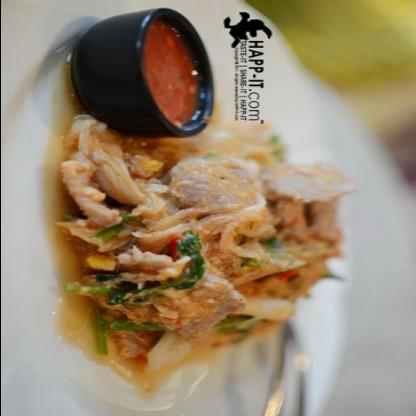Suki: (34, 12, 368, 376)
